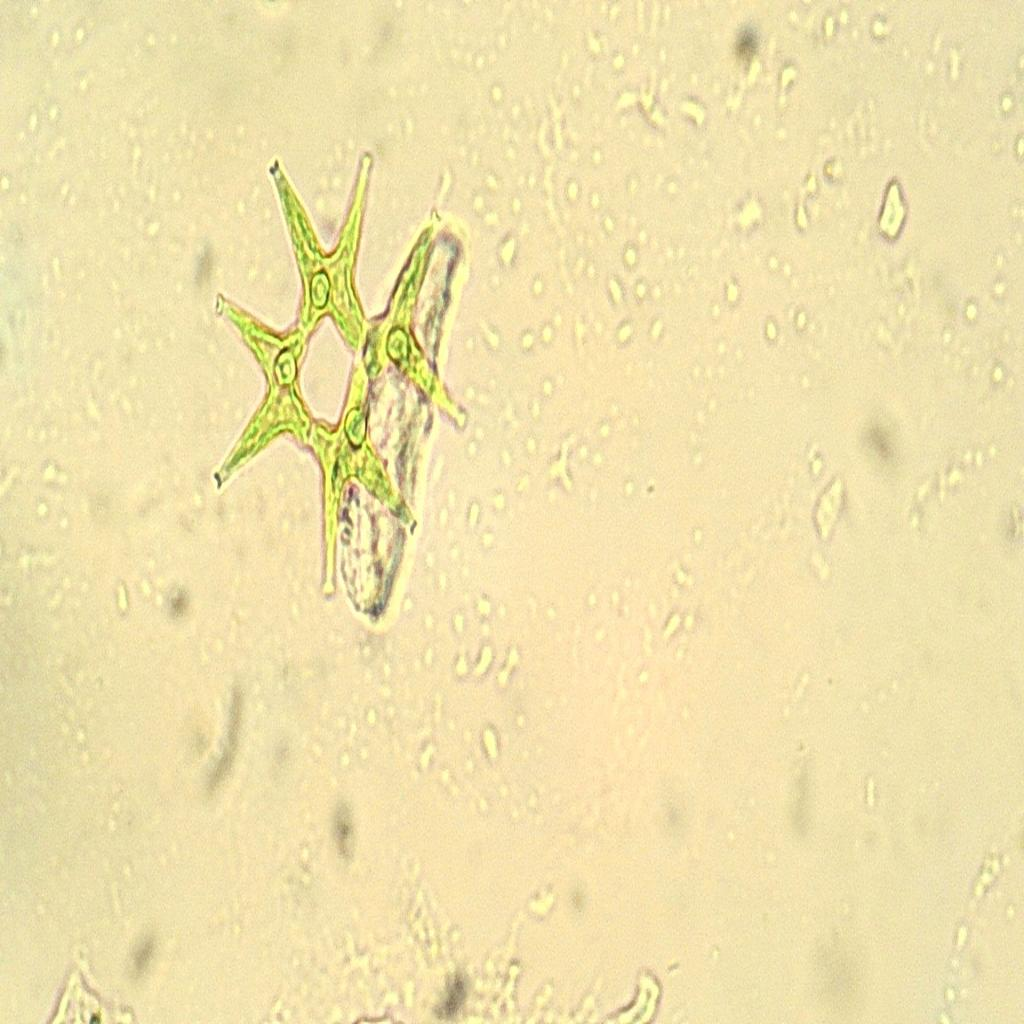Pediastrum_75FI: (203, 134, 473, 608)
